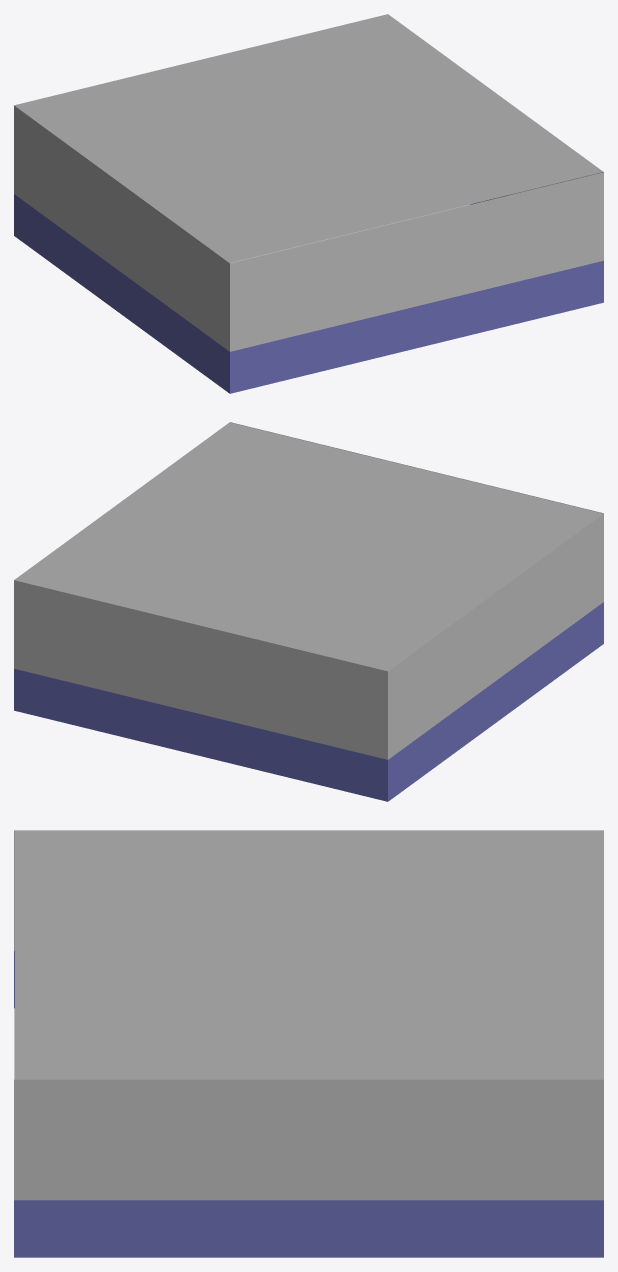
File: POLIS.fbx
3 renders of one model, top to bottom at view 1: azimuth 30°, elevation 25°; view 2: azimuth 150°, elevation 25°; view 3: azimuth 270°, elevation 25°, orthographic. The views are drawn at different scales.
Visible parts, largest first — view 1: pPlane4, Wall22, Wall23, Wall21, Wall13, Wall20, Wall14; view 2: pPlane4, Wall11, Wall12, Wall, Wall20, Wall14, Wall13; view 3: pPlane4, Wall18, Wall24, Wall19.
Part boxes in pixels (bbox=[...]): pPlane4: bbox=[14, 14, 603, 262]; Wall22: bbox=[354, 202, 479, 363]; Wall23: bbox=[479, 172, 603, 332]; Wall21: bbox=[230, 233, 354, 393]; Wall13: bbox=[14, 105, 85, 288]; Wall20: bbox=[158, 211, 229, 393]; Wall14: bbox=[86, 158, 157, 340]; pPlane4: bbox=[14, 422, 602, 671]; Wall11: bbox=[138, 610, 263, 771]; Wall12: bbox=[263, 641, 387, 801]; Wall: bbox=[14, 580, 138, 740]; Wall20: bbox=[532, 513, 603, 696]; Wall14: bbox=[460, 566, 531, 748]; Wall13: bbox=[388, 619, 459, 801]; pPlane4: bbox=[15, 830, 603, 1079]; Wall18: bbox=[210, 1079, 407, 1257]; Wall24: bbox=[14, 1079, 210, 1257]; Wall19: bbox=[407, 1079, 603, 1257].
Size of the model in its own units: 7.55 by 2.52 by 7.55.
